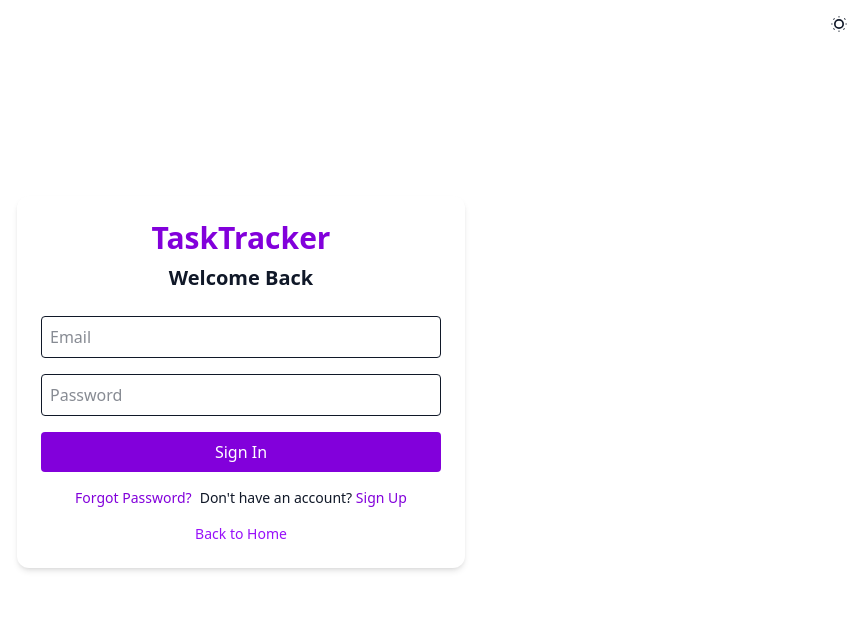
Test: LoginPage › shows error message on failed login
Step 1. Type "test@example.com" into the field with placeholder "Email" → (241, 337), box [41, 316, 441, 358]
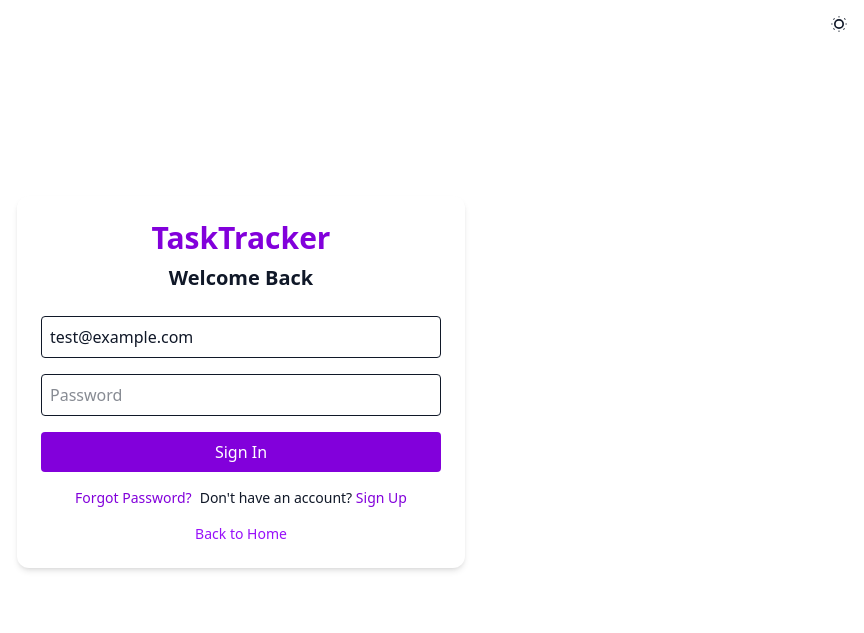
Step 2. Type "wrongpass" into the password field with placeholder "Password" → (241, 395), box [41, 374, 441, 416]
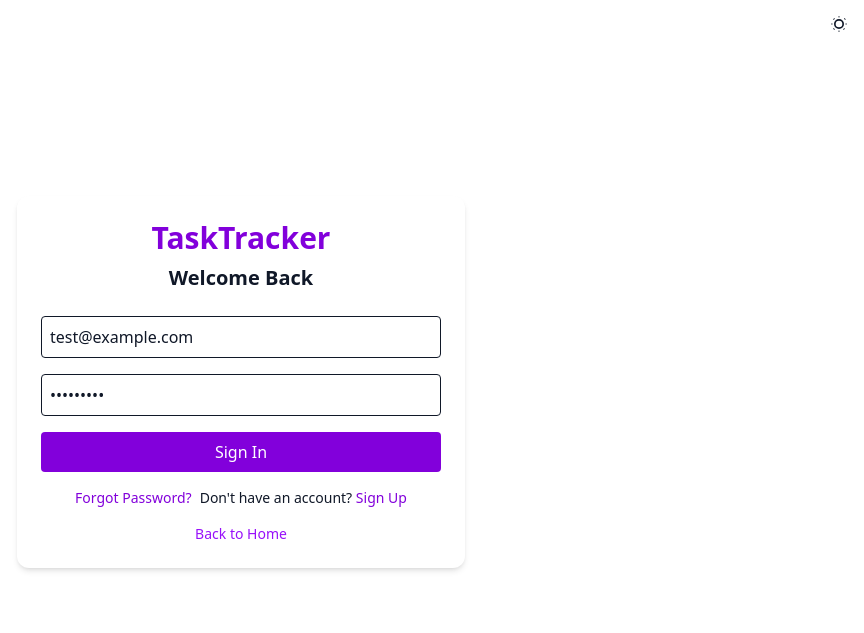
Step 3. Click the button "Sign In" → (241, 452), box [41, 432, 441, 472]
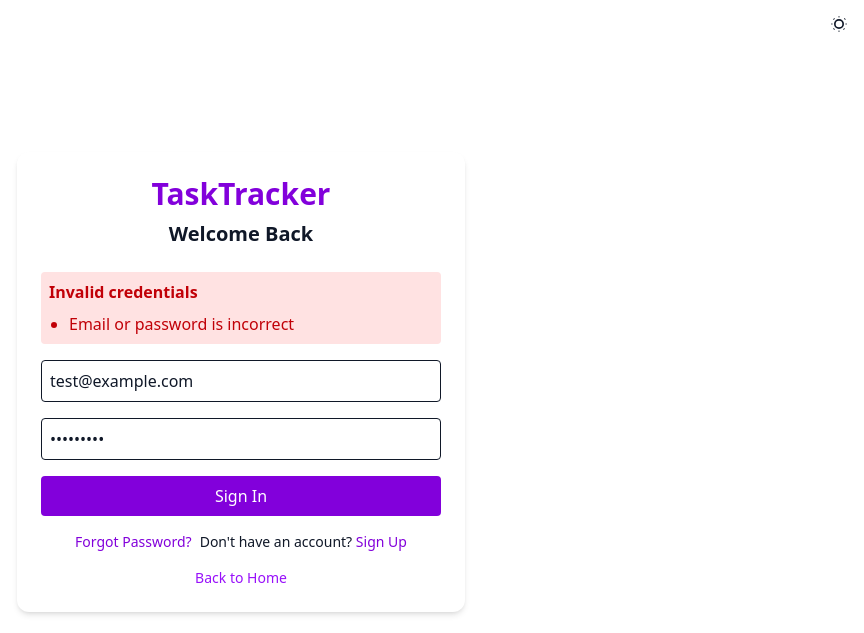
Expected: the text "Invalid credentials" is shown, [49, 281, 198, 303]
Expected: the list item "Email or password is incorrect" is shown, [69, 313, 294, 335]
